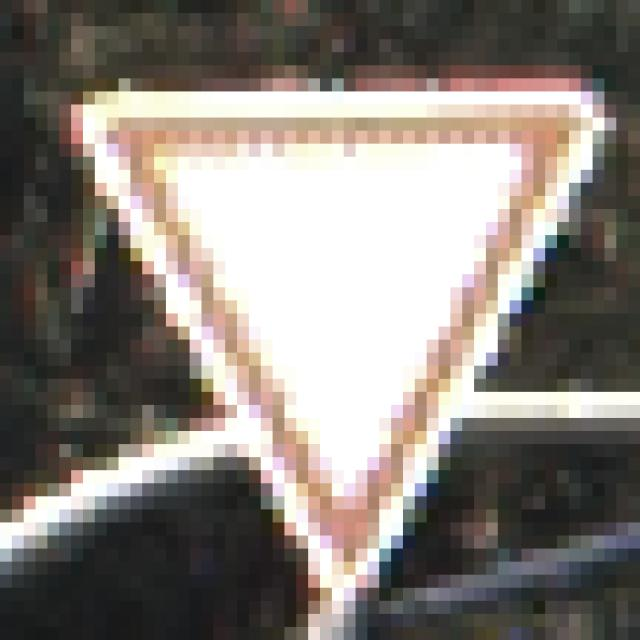Give Way: (72, 66, 582, 576)
